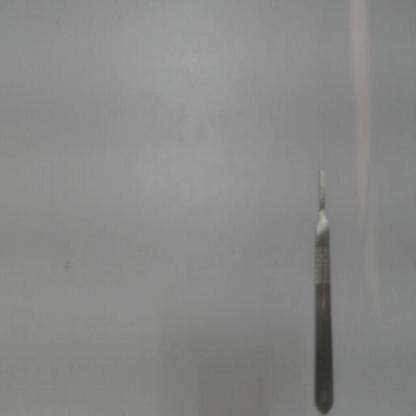No.4 BP Handle: (308, 159, 336, 414)
